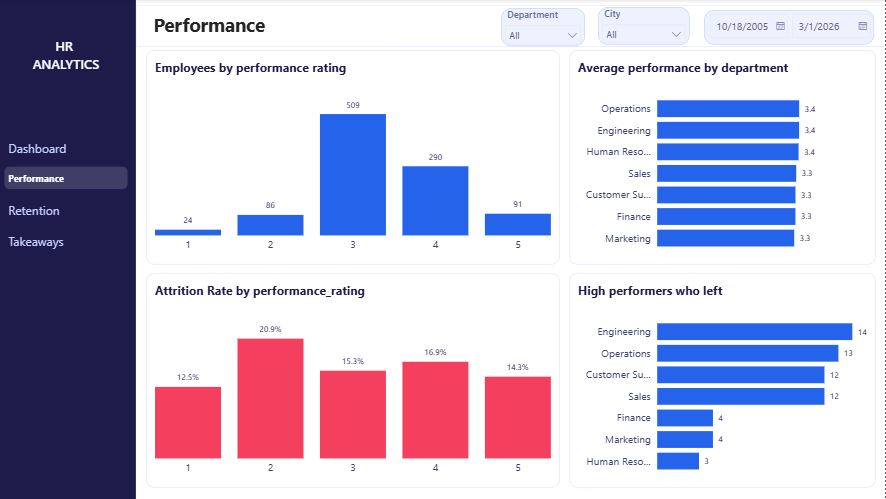

This screenshot's page, from the dashboard's own definition file:
{"tool":"powerbi","page":{"name":"Performance","canvas":[1280,720],"ordinal":1},"visuals":[{"type":"shape","title":"Sidebar","box":[0,0,200,720],"z":0},{"type":"pageNavigator","title":"PageNav","box":[5,190,190,180],"z":1000},{"type":"shape","title":"Header","box":[200,9,1080,60],"z":2000},{"type":"textbox","box":[220.3,13,324,54.7],"z":3000},{"type":"clusteredColumnChart","title":" Employees by performance rating","fields":{"Category":["Employee & Attrition Records.performance_rating"],"Y":["Table.Total Employees"]},"box":[215,74,596,309],"z":4000},{"type":"clusteredBarChart","title":"Average performance by department","fields":{"Category":["Employee & Attrition Records.department"],"Y":["Table.AVG Performance"]},"box":[823,74,442,309],"z":5000},{"type":"clusteredColumnChart","fields":{"Category":["Employee & Attrition Records.performance_rating"],"Y":["Table.Attrition Rate"]},"box":[215,395,596,309],"z":6000},{"type":"clusteredBarChart","title":"High performers who left","fields":{"Category":["Employee & Attrition Records.department"],"Y":["Table.High Performers Left"]},"box":[823,395,442,309],"z":7000},{"type":"textbox","box":[30,50,138,70],"z":8000},{"type":"slicer","fields":{"Values":["Employee & Attrition Records.department"]},"box":[725.8,13,121.3,54.7],"z":9000},{"type":"slicer","fields":{"Values":["Employee & Attrition Records.city"]},"box":[865.4,11.5,131.6,54.7],"z":10000},{"type":"slicer","fields":{"Values":["Employee & Attrition Records.date_of_joining"]},"box":[1018.4,15.6,245,50],"z":11000}]}

Visuals, with their boxes in screenshot pixels (x1, y1, x2, y2), scaled from the page's 1280x720 canvas onto the 886x499 screenshot:
"Sidebar" shape: BBox(0, 0, 138, 498)
"PageNav" pageNavigator: BBox(3, 132, 135, 256)
"Header" shape: BBox(138, 6, 885, 48)
textbox: BBox(152, 9, 377, 47)
" Employees by performance rating" clusteredColumnChart: BBox(149, 51, 561, 265)
"Average performance by department" clusteredBarChart: BBox(570, 51, 876, 265)
clusteredColumnChart - Employee & Attrition Records.performance_rating x Table.Attrition Rate: BBox(149, 274, 561, 488)
"High performers who left" clusteredBarChart: BBox(570, 274, 876, 488)
textbox: BBox(21, 35, 116, 83)
slicer - Employee & Attrition Records.department: BBox(502, 9, 586, 47)
slicer - Employee & Attrition Records.city: BBox(599, 8, 690, 46)
slicer - Employee & Attrition Records.date_of_joining: BBox(705, 11, 875, 45)
